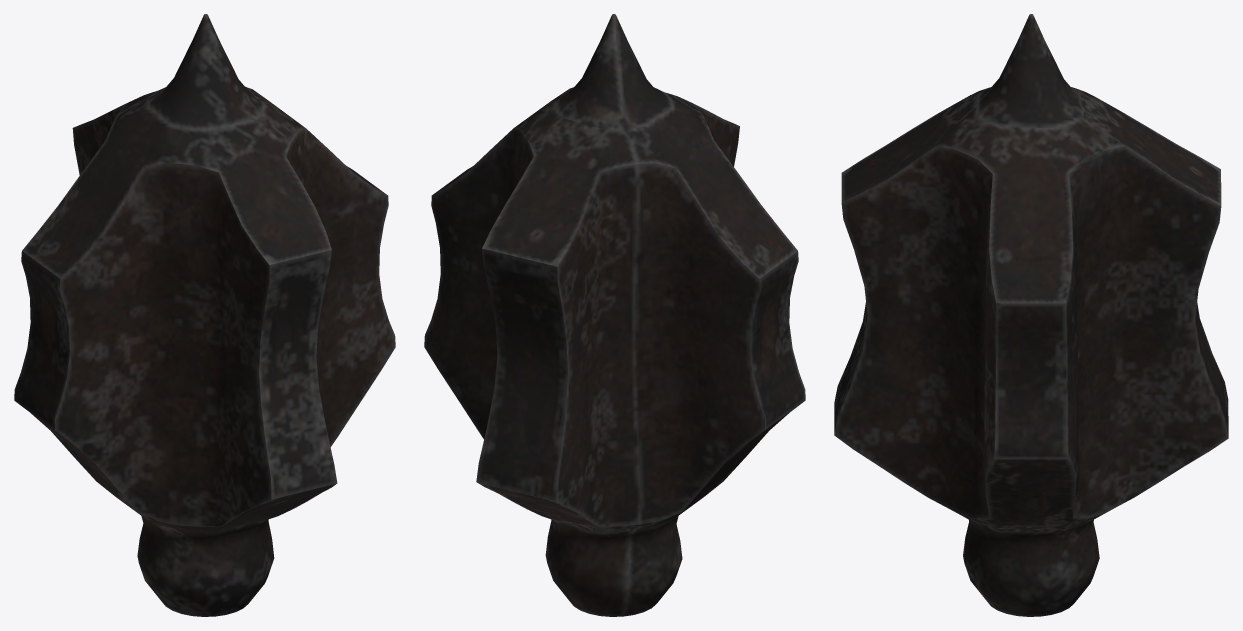
Rendered from wm_dol_goldur_1h_mace_a02_blade.fbx.
3 views of the same model, side by side, from view 1: azimuth 30°, elevation 25°; view 2: azimuth 150°, elevation 25°; view 3: azimuth 270°, elevation 25° (orthographic).
Parts seen in each view (by area): view 1: wm_dol_goldur_1h_mace_a02_blade; view 2: wm_dol_goldur_1h_mace_a02_blade; view 3: wm_dol_goldur_1h_mace_a02_blade.
Boxes of the visible parts, x1,y1,x2,y2 form: wm_dol_goldur_1h_mace_a02_blade: [14, 14, 395, 616]; wm_dol_goldur_1h_mace_a02_blade: [424, 14, 805, 616]; wm_dol_goldur_1h_mace_a02_blade: [834, 14, 1228, 616].
Size of the model in its own units: 0.1584 by 0.1578 by 0.2576.
1 material, 1 textured.
